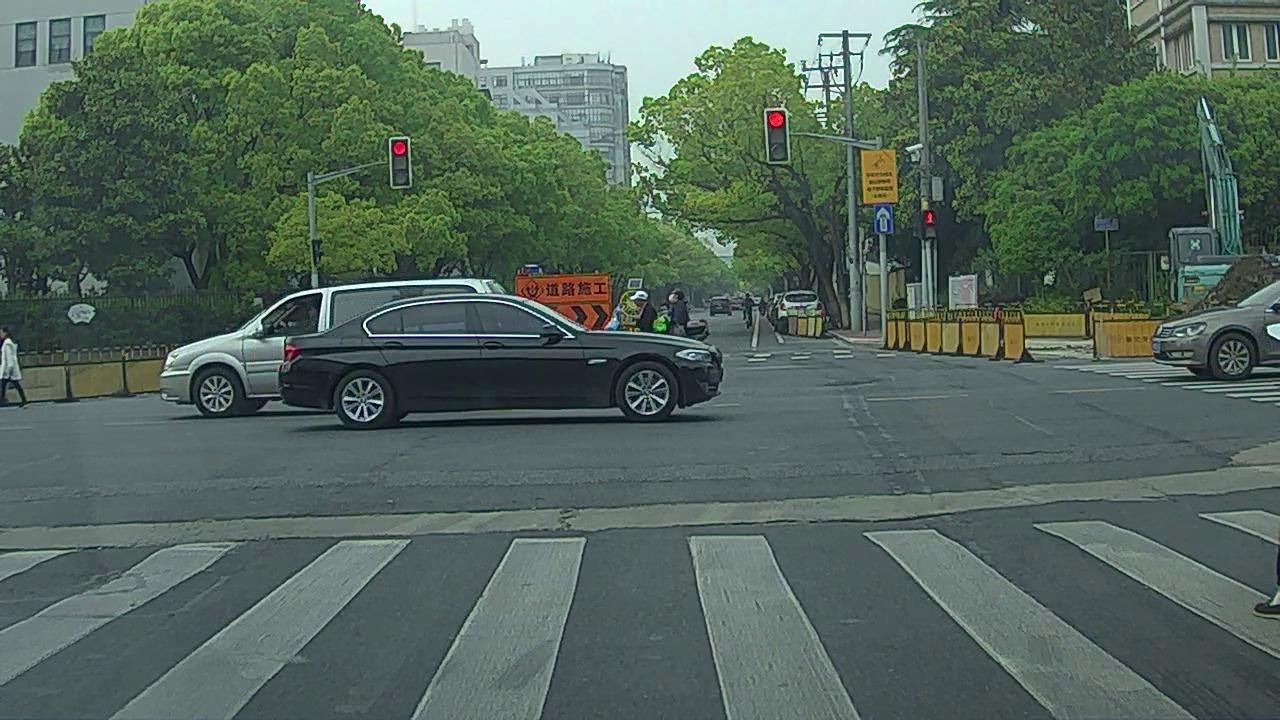traffic_light: (767, 110, 788, 163), (391, 138, 411, 187)
